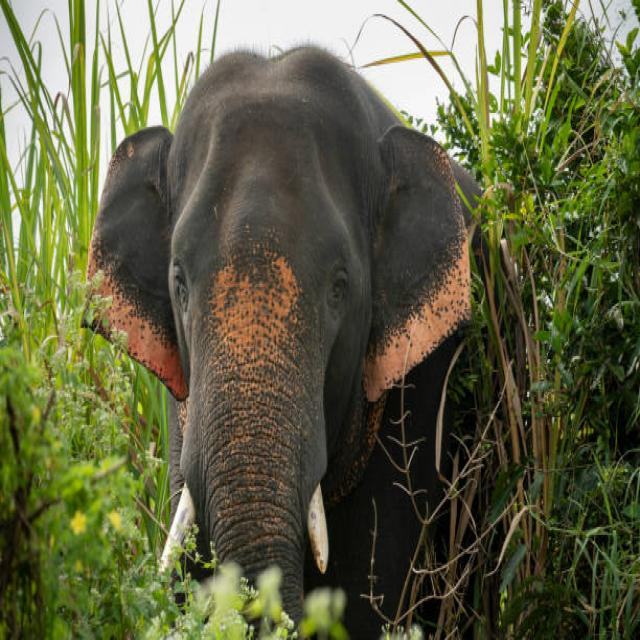Elephant: (86, 37, 522, 640)
